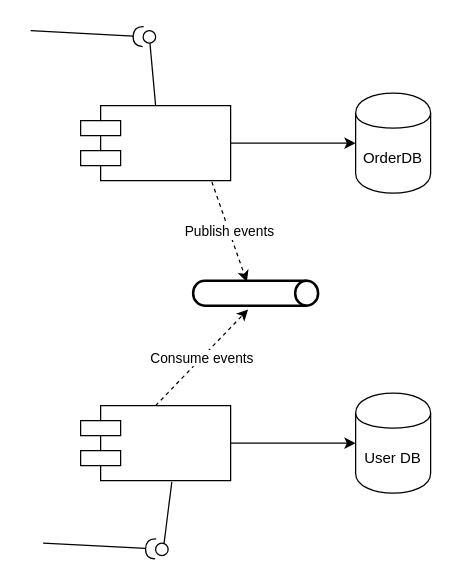
This 453x581 diagram has some shape labels left out. The centre of each missing label's shape, as x and y in pixels:
"Order" goes at point (155, 142).
"User" goes at point (155, 442).
